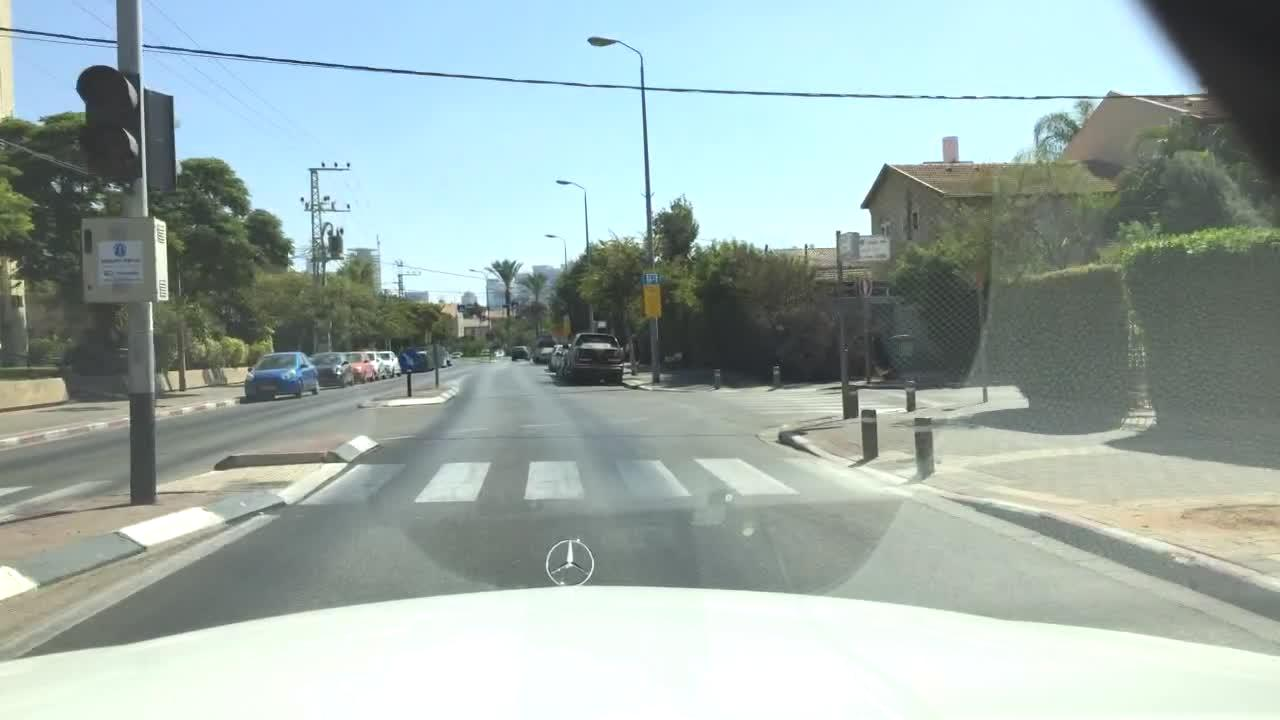Mercedes: (540, 528, 597, 592)
